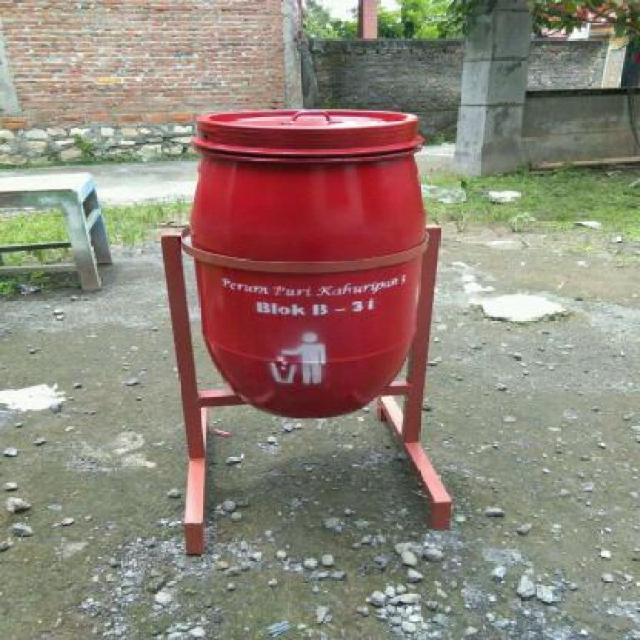garbage container: (185, 101, 442, 428)
